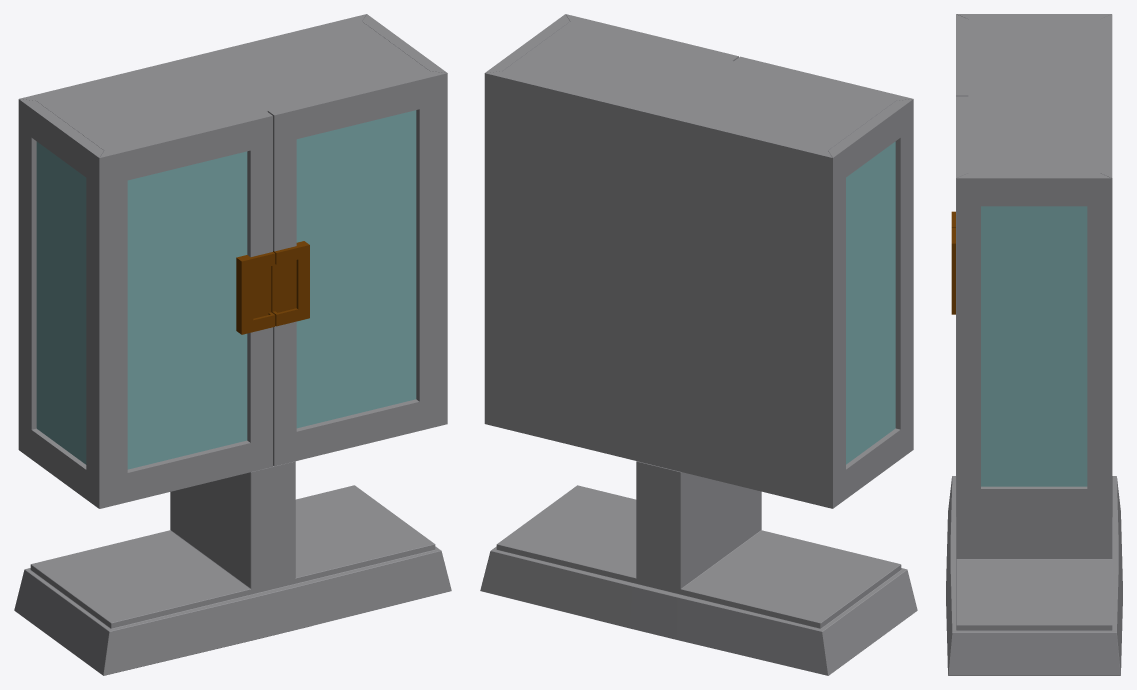
Rendered from Locker2.FBX.
The picture shows the model from 3 angles, left to right: view 1: azimuth 30°, elevation 25°; view 2: azimuth 150°, elevation 25°; view 3: azimuth 270°, elevation 25°; orthographic projection. The views are drawn at different scales.
Parts seen in each view (by area): view 1: GSC_Fitzg3, GSC_Fitzg2, GSC_Fitzg0; view 2: GSC_Fitzg3, GSC_Fitzg2; view 3: GSC_Fitzg3, GSC_Fitzg2, GSC_Fitzg0.
Boxes of the visible parts, x1=… form: GSC_Fitzg3: x1=14, y1=14, x2=451, y2=675; GSC_Fitzg2: x1=36, y1=110, x2=416, y2=469; GSC_Fitzg0: x1=236, y1=241, x2=309, y2=334; GSC_Fitzg3: x1=480, y1=14, x2=917, y2=675; GSC_Fitzg2: x1=846, y1=141, x2=895, y2=464; GSC_Fitzg3: x1=946, y1=14, x2=1122, y2=675; GSC_Fitzg2: x1=981, y1=206, x2=1087, y2=486; GSC_Fitzg0: x1=951, y1=211, x2=955, y2=314.
Size of the model in its own units: 12.47 by 17.71 by 5.67.
